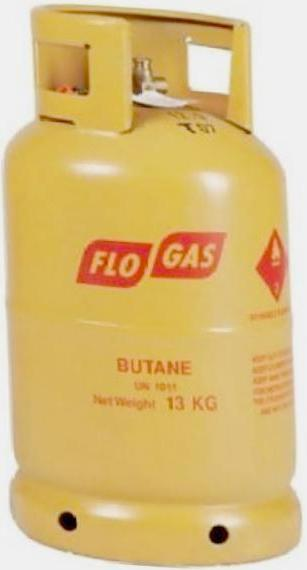cylinder: (0, 1, 307, 570)
